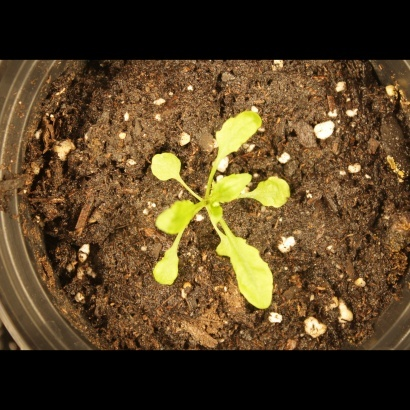leaf: (232, 229, 277, 315), (213, 103, 265, 162), (149, 244, 191, 295), (144, 143, 193, 183), (249, 175, 297, 214), (153, 200, 200, 237), (206, 171, 252, 208), (214, 231, 240, 263), (206, 201, 229, 224)
